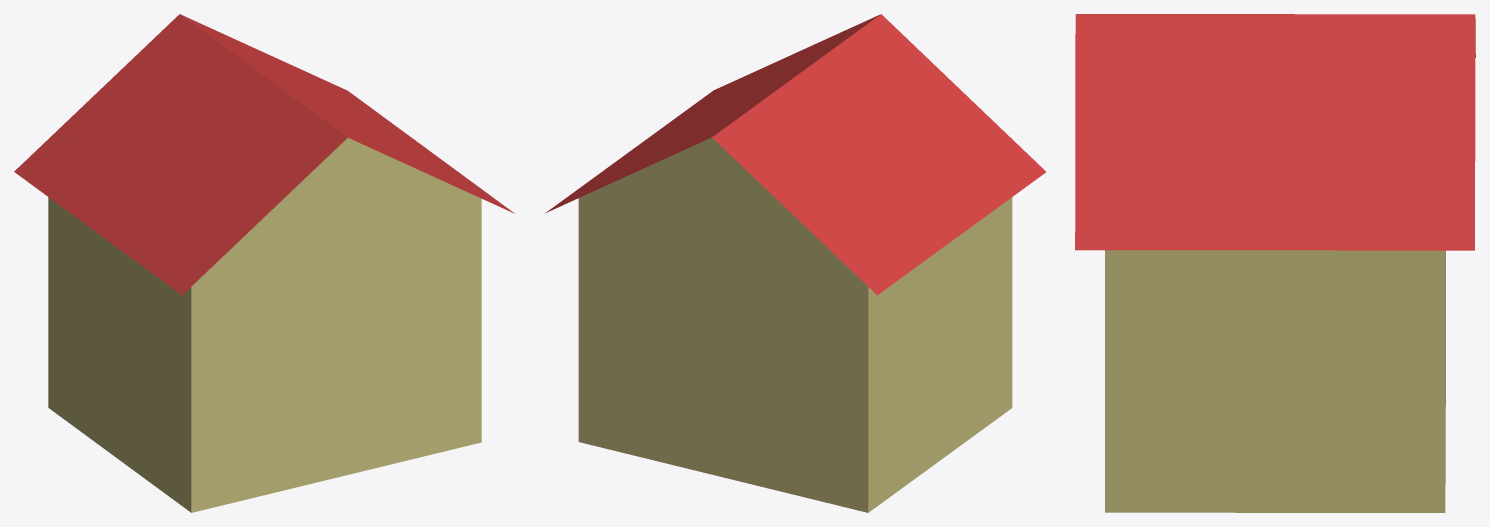
3 views of the same model, side by side, from view 1: azimuth 30°, elevation 25°; view 2: azimuth 150°, elevation 25°; view 3: azimuth 270°, elevation 25° (orthographic). The views are drawn at different scales.
Parts seen in each view (by area): view 1: group_5, group_3, group_4; view 2: group_5, group_3, group_4; view 3: group_5, group_3, group_4.
Part boxes in pixels (left/top/right/bottom): group_5: left=48, top=138, right=481, bottom=512; group_3: left=48, top=14, right=480, bottom=295; group_4: left=14, top=15, right=514, bottom=294; group_5: left=578, top=137, right=1012, bottom=512; group_3: left=546, top=15, right=1045, bottom=265; group_4: left=550, top=14, right=1045, bottom=295; group_5: left=1105, top=250, right=1445, bottom=512; group_3: left=1075, top=14, right=1475, bottom=250; group_4: left=1075, top=14, right=1475, bottom=250.
Size of the model in its own units: 11.54 by 10.12 by 11.54.
